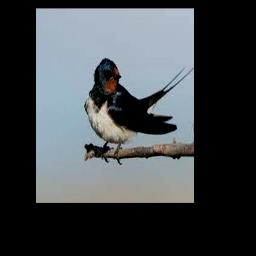Swallow: (85, 58, 194, 161)
